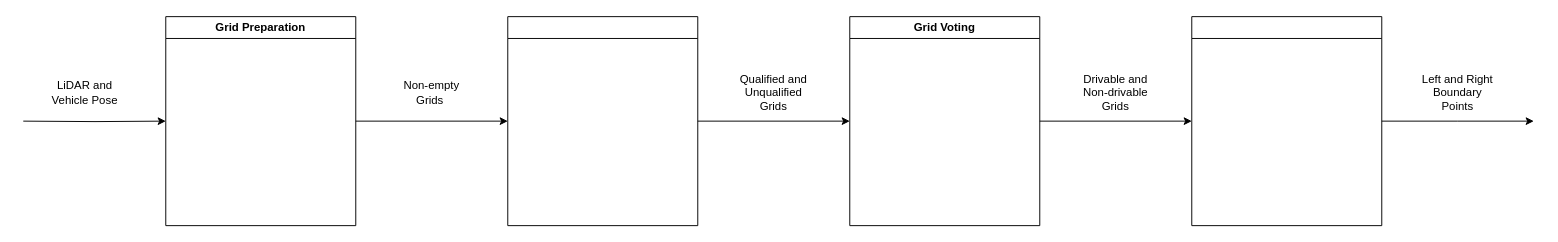
Some shapes in this 1558 by 242 pixel diagram are drawn without their labels. The centre of each missing label's shape, as x and y in pixels:
Drivability of Grids: the point at 602,121
Post Processing: the point at 1286,121
